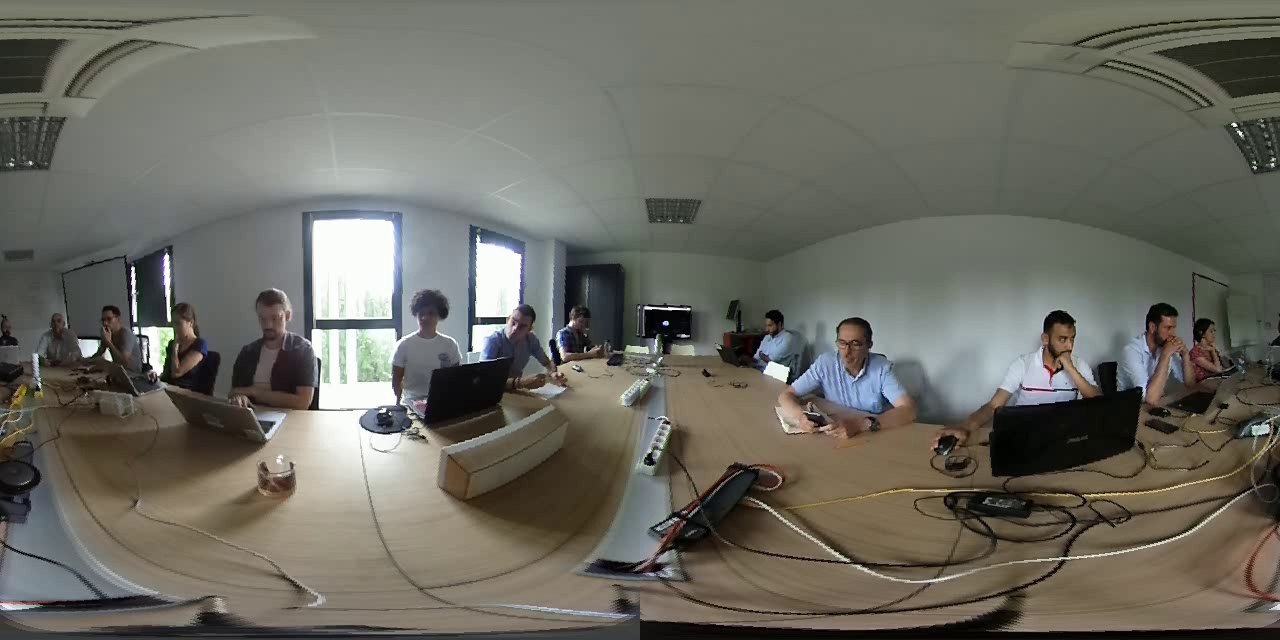person: (801, 298, 916, 440), (992, 299, 1104, 409), (229, 282, 319, 409), (1108, 294, 1189, 410), (385, 278, 472, 380), (153, 291, 221, 391), (480, 294, 550, 387), (84, 294, 147, 372), (552, 292, 610, 363), (743, 298, 799, 369), (744, 299, 800, 370), (29, 300, 83, 369), (1189, 301, 1236, 377), (1, 308, 24, 351)
